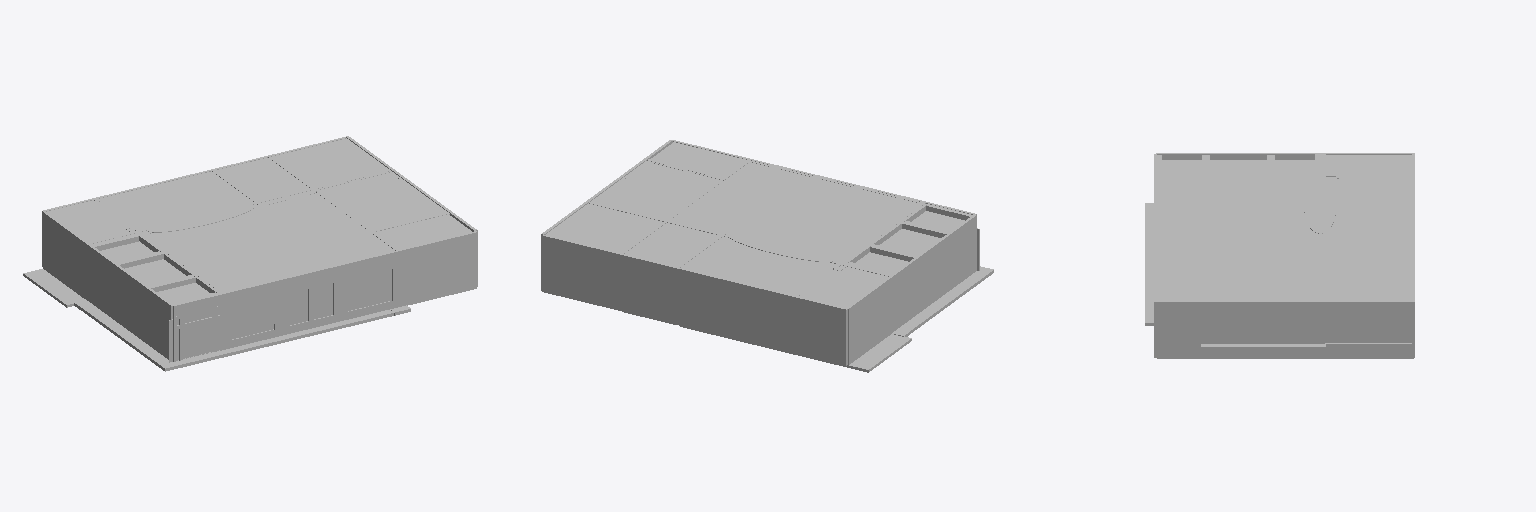
The model's file is Fast Food.obj.
3 renders of one model, left to right at view 1: azimuth 30°, elevation 25°; view 2: azimuth 150°, elevation 25°; view 3: azimuth 270°, elevation 25°, orthographic.
Parts seen in each view (by area): view 1: Wall21, Wall07, Glass, Box38, Cylinder01, PivotDoor04, Box439; view 2: Wall21, Wall07, Box38, Cylinder01; view 3: Wall21, Wall07, Box38, Cylinder01.
Boxes of the visible parts, x1,y1,x2,y2 form: Wall21: [47, 138, 471, 302]; Wall07: [42, 136, 477, 361]; Glass: [169, 269, 391, 362]; Box38: [91, 171, 446, 350]; Cylinder01: [148, 204, 254, 232]; PivotDoor04: [183, 320, 213, 358]; Box439: [176, 274, 371, 360]; Wall21: [546, 142, 964, 307]; Wall07: [541, 140, 976, 365]; Box38: [591, 160, 972, 274]; Cylinder01: [729, 233, 835, 261]; Wall21: [1157, 155, 1411, 305]; Wall07: [1154, 153, 1414, 358]; Box38: [1157, 154, 1322, 300]; Cylinder01: [1304, 181, 1335, 233].
Size of the model in its own units: 592 by 109 by 416.